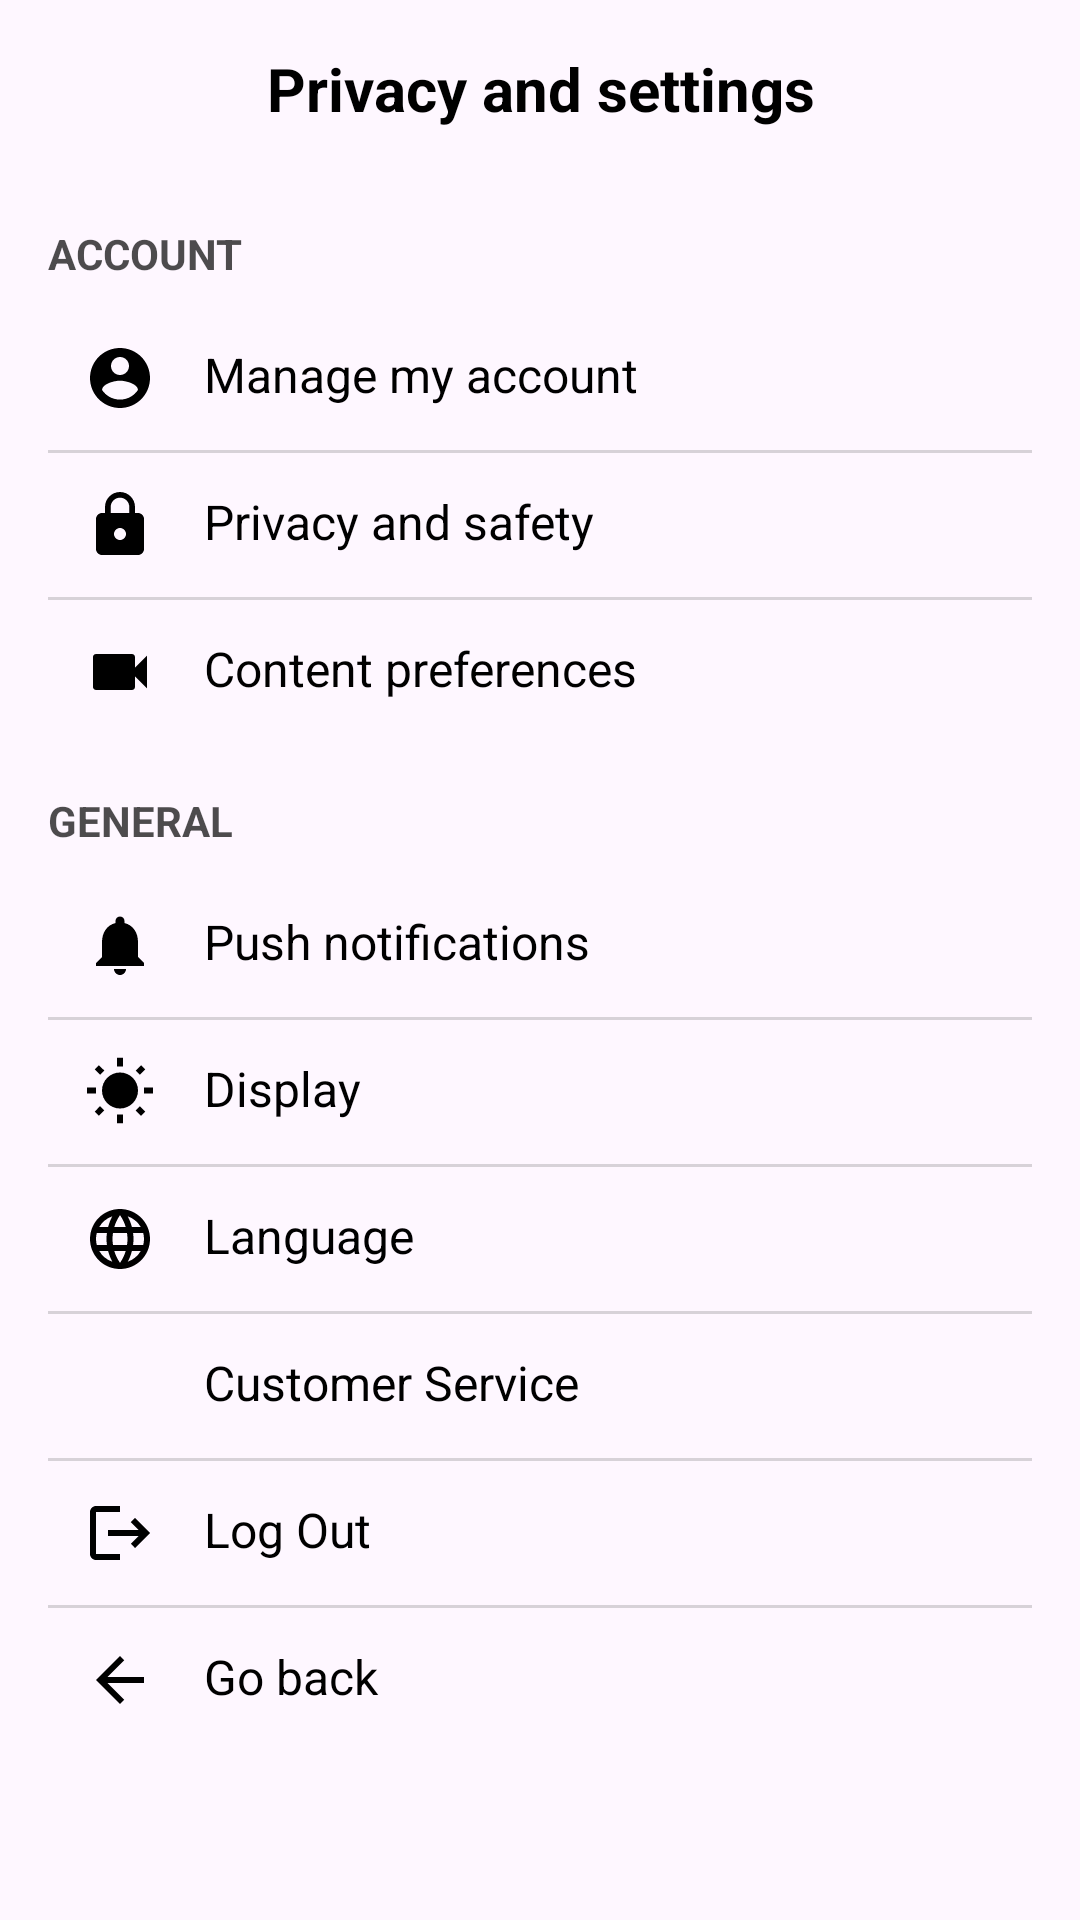

Icons on this 1080*1920 Android screen, each with its box as (x1, y1, x2, y2):
arrow back: (96, 1656, 144, 1704)
lock: (96, 492, 144, 555)
sunny: (87, 1057, 153, 1124)
videocam: (93, 654, 147, 690)
